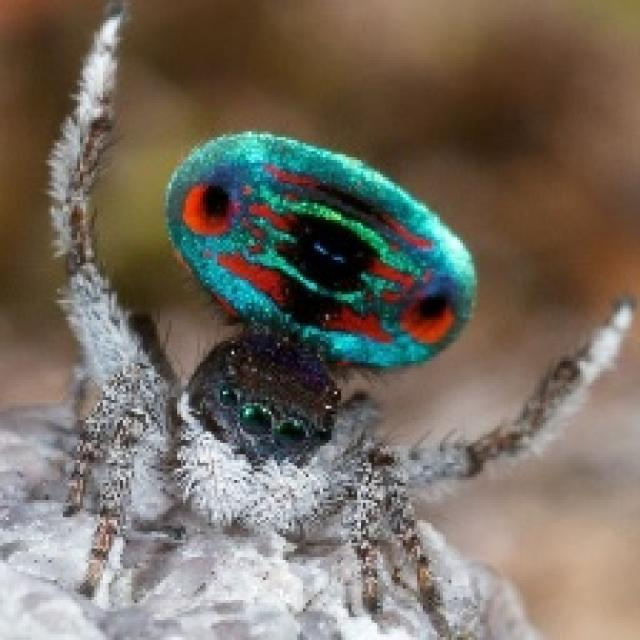Non venomous spider: (21, 9, 640, 606)
